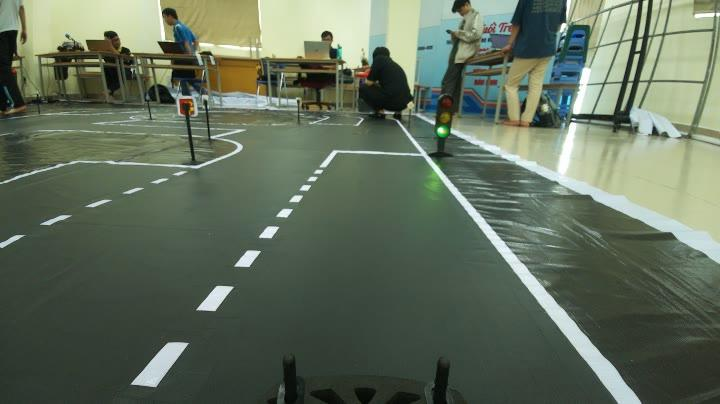trafficlight: (426, 90, 458, 163)
